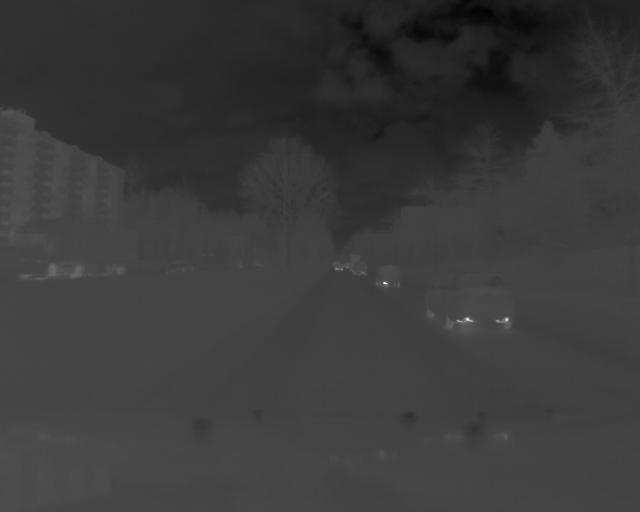car: (12, 215, 135, 278), (420, 268, 520, 337), (375, 263, 402, 286), (351, 261, 369, 276)
